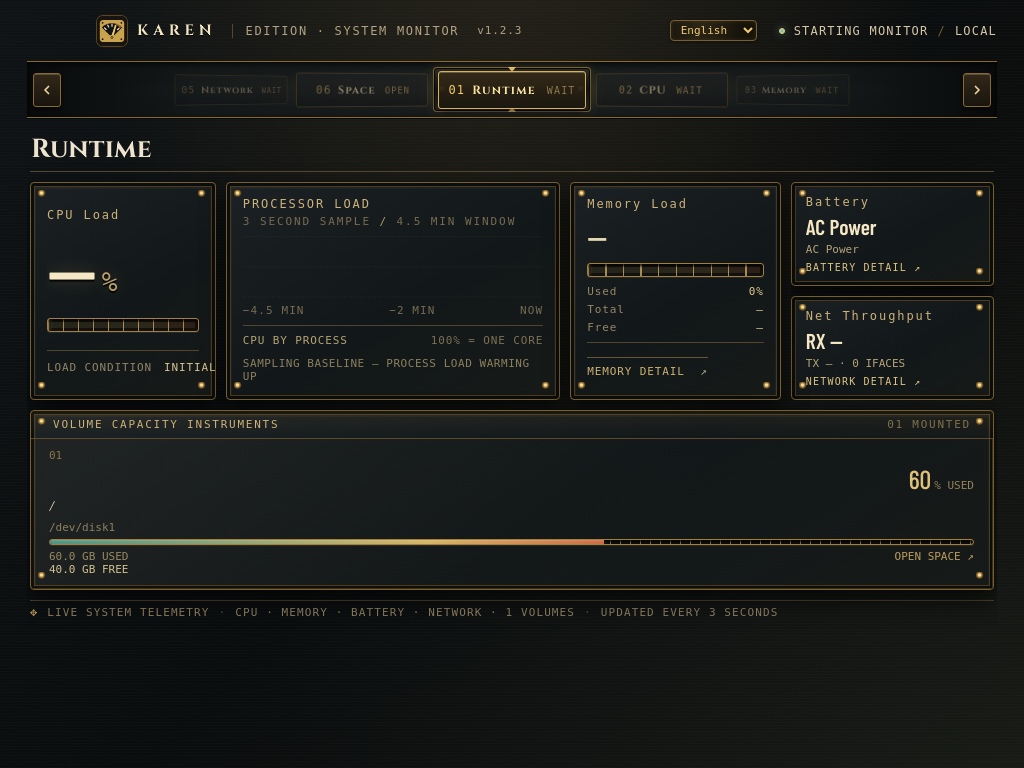
Karen desktop interface › volume picker › lists no volumes and does not reopen the current mapped volume
What coordinates should you click on to do the following:
click the button "06 Space OPEN"
I would click on:
 (362, 90)
Its box is top-left (296, 72), bottom-right (428, 107).
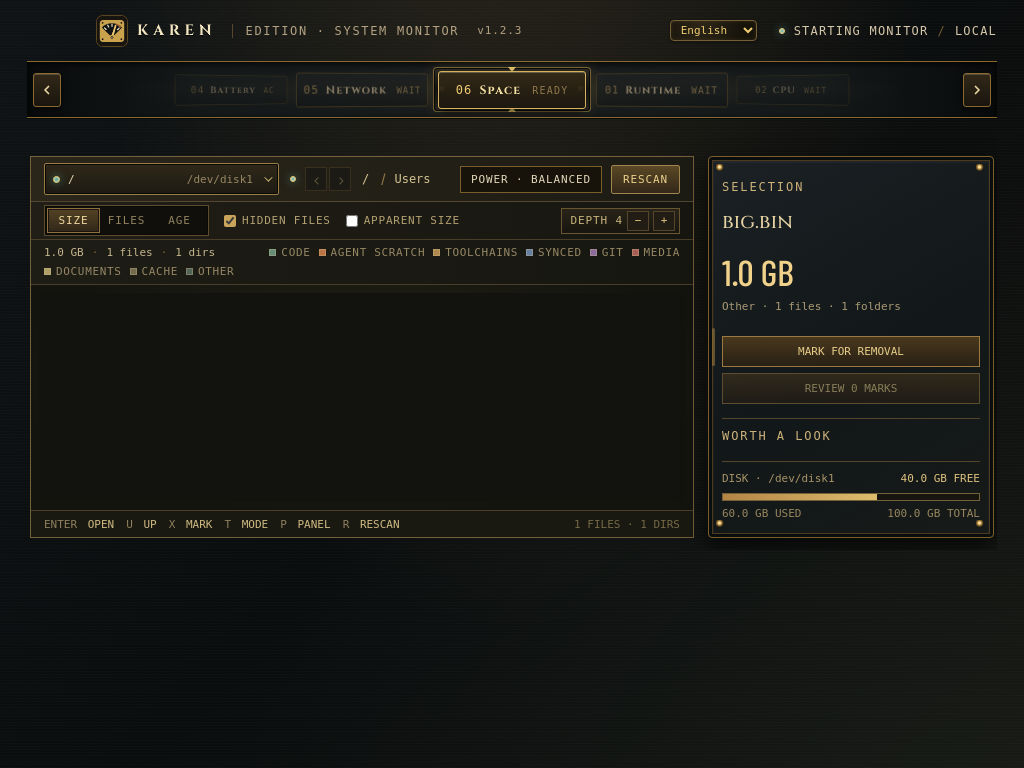
What coordinates should you click on to do the following:
click the button "01 Runtime WAIT"
I would click on:
 (662, 90)
Its box is top-left (596, 72), bottom-right (728, 107).
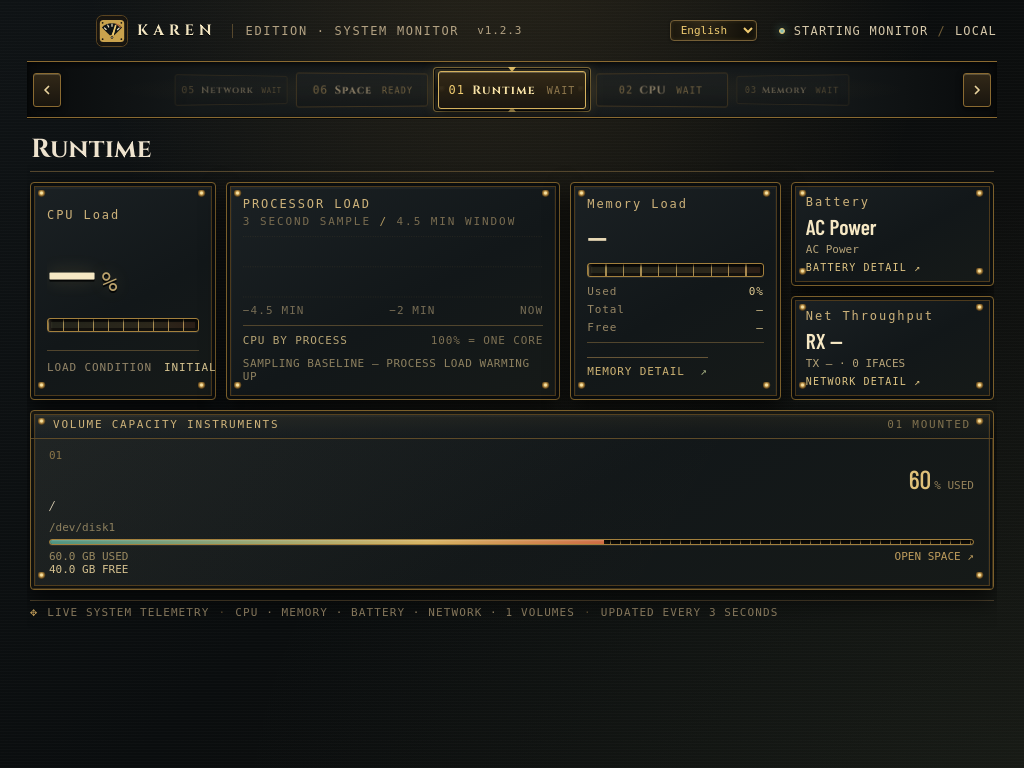
What coordinates should you click on to do the following:
click the button with class "runtime-volume"
I would click on:
 (82, 527)
Its box is top-left (31, 439), bottom-right (993, 589).
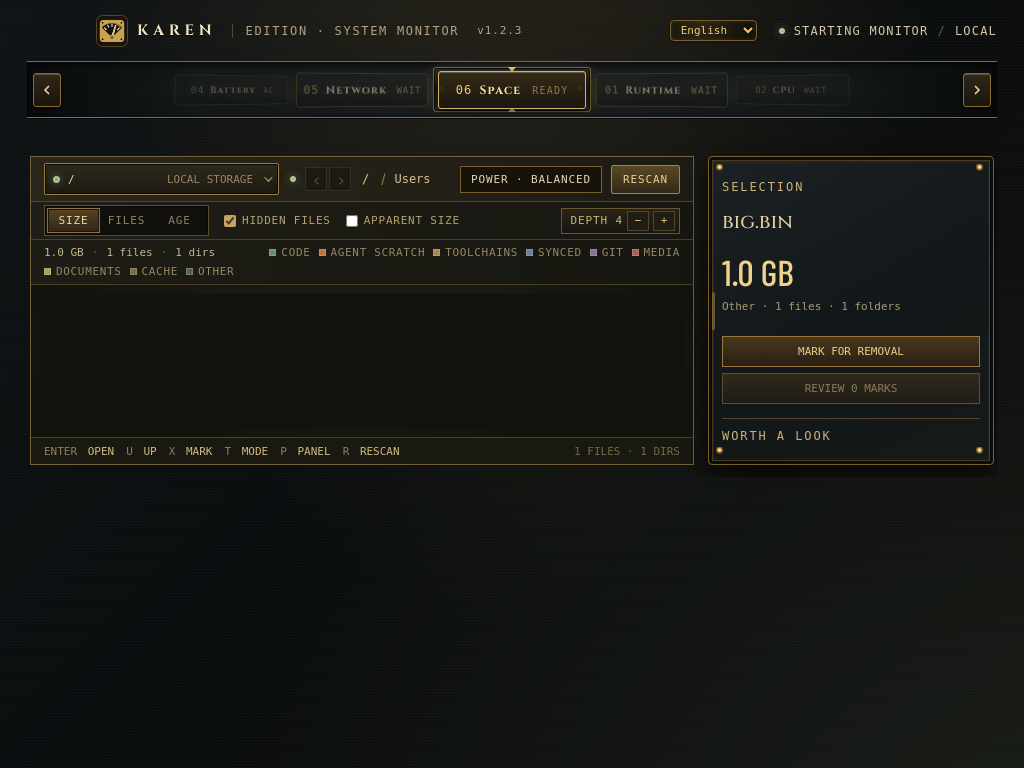
What coordinates should you click on to do the following:
click the button "/ LOCAL STORAGE"
I would click on:
 (162, 179)
Its box is top-left (44, 163), bottom-right (279, 195).
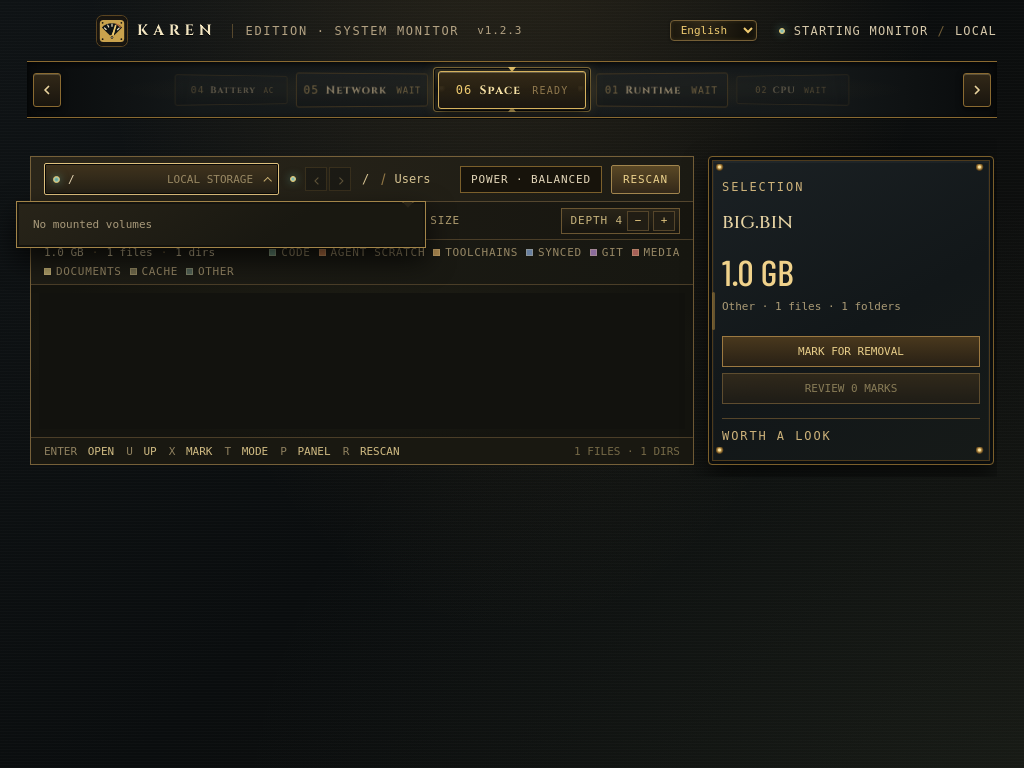
Now the list reads "No mounted volumes", box top-left (33, 218), bottom-right (152, 231)
